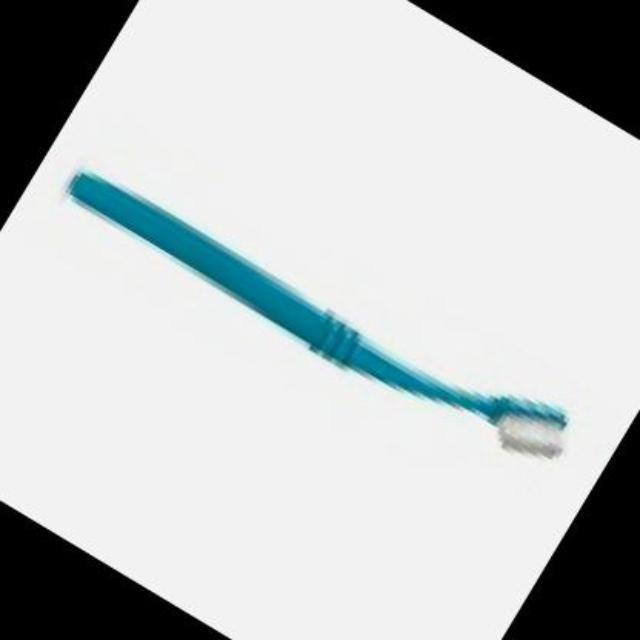toothbrush: (18, 95, 612, 533)
